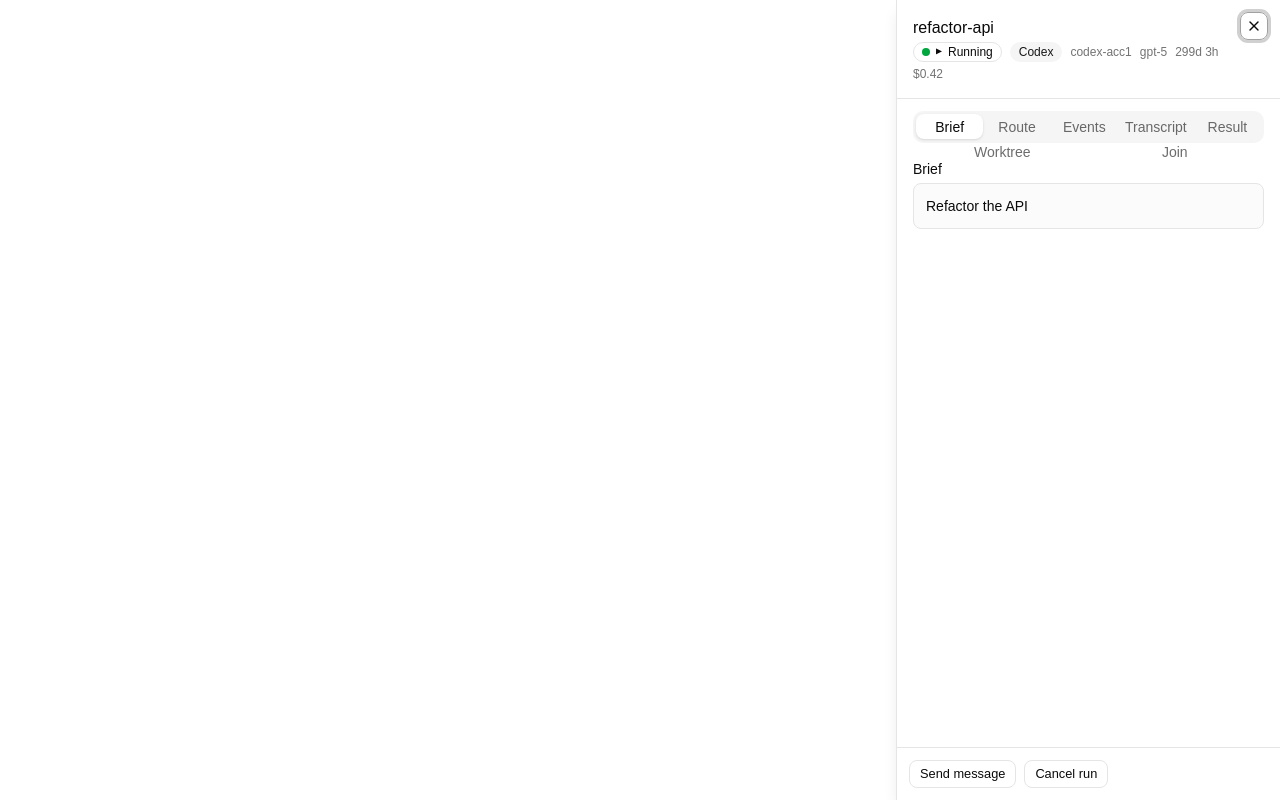
Test: RunPanel › has all seven tabs and switches between them
The width and height of the screenshot is (1280, 800).
Check: the tab "Brief" is shown, box x1=916 y1=114 x2=983 y2=139
Check: the tab "Route" is shown, box x1=983 y1=114 x2=1051 y2=139
Click the tab "Result". click: click(1227, 126)
box: x1=1194 y1=114 x2=1261 y2=139
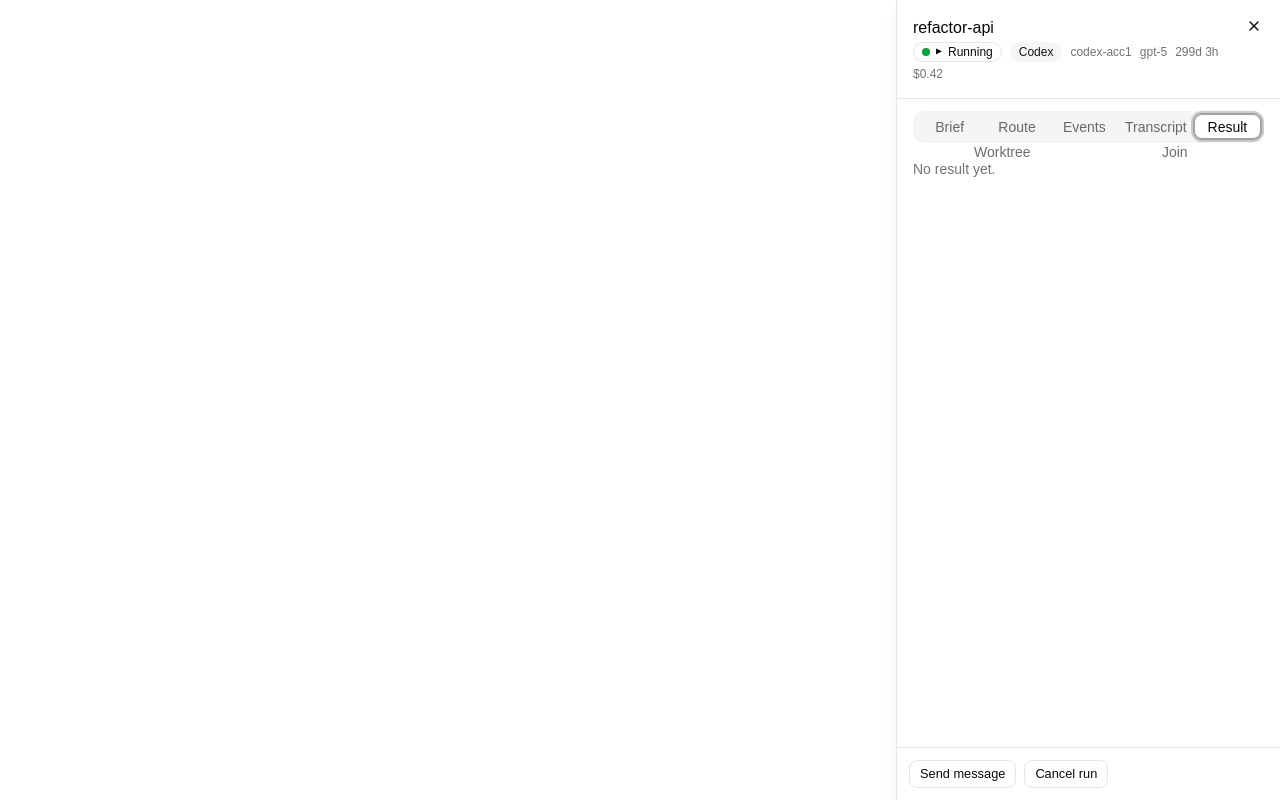
Check: the text "No result yet." is shown, box x1=913 y1=161 x2=996 y2=177
